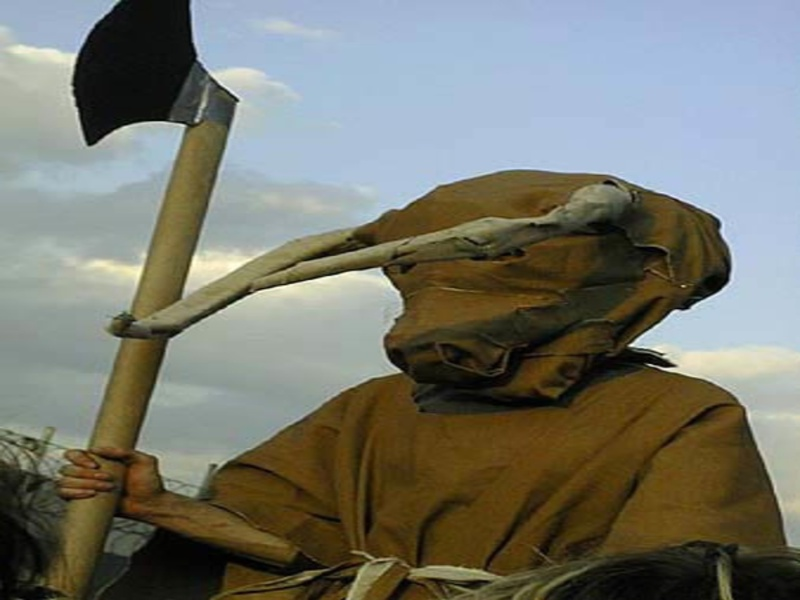axe: (63, 1, 245, 186)
